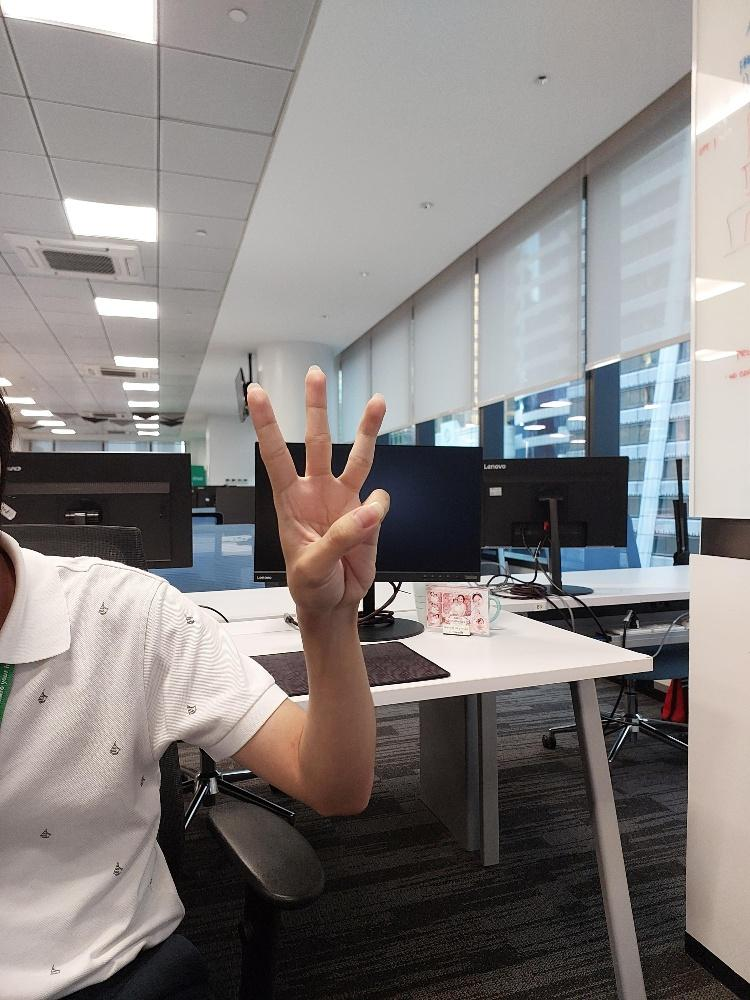w: (236, 356, 394, 624)
